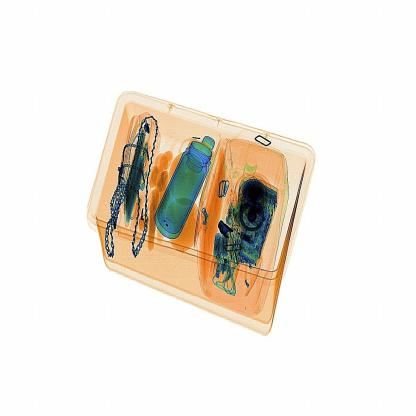pliers: (214, 217, 236, 247)
